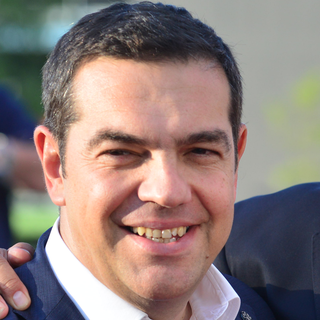eye: (94, 142, 145, 165), (179, 140, 225, 164)
